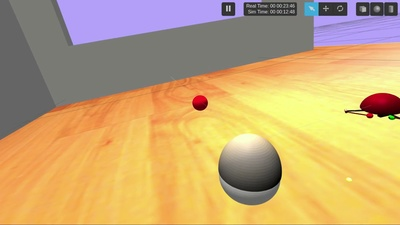mira_robot: (218, 133, 282, 206)
